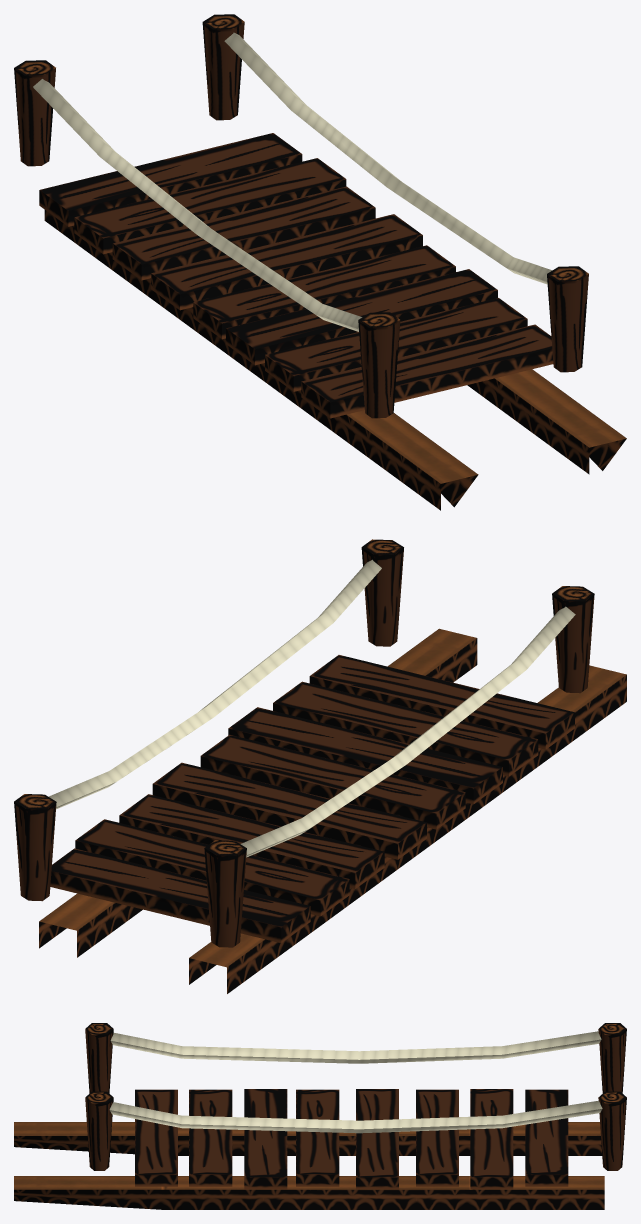
File: Forest_Bridge.fbx
The picture shows the model from 3 angles, top to bottom: view 1: azimuth 30°, elevation 25°; view 2: azimuth 150°, elevation 25°; view 3: azimuth 270°, elevation 25°; orthographic projection. The views are drawn at different scales.
Parts seen in each view (by area): view 1: Bridge_Pieces; view 2: Bridge_Pieces; view 3: Bridge_Pieces.
Part boxes in pixels (x1,y1,x2,y2): Bridge_Pieces: [14, 14, 626, 510]; Bridge_Pieces: [14, 539, 626, 993]; Bridge_Pieces: [14, 1023, 626, 1209].
Size of the model in its own units: 313 by 184 by 917.
1 material, 1 textured.
